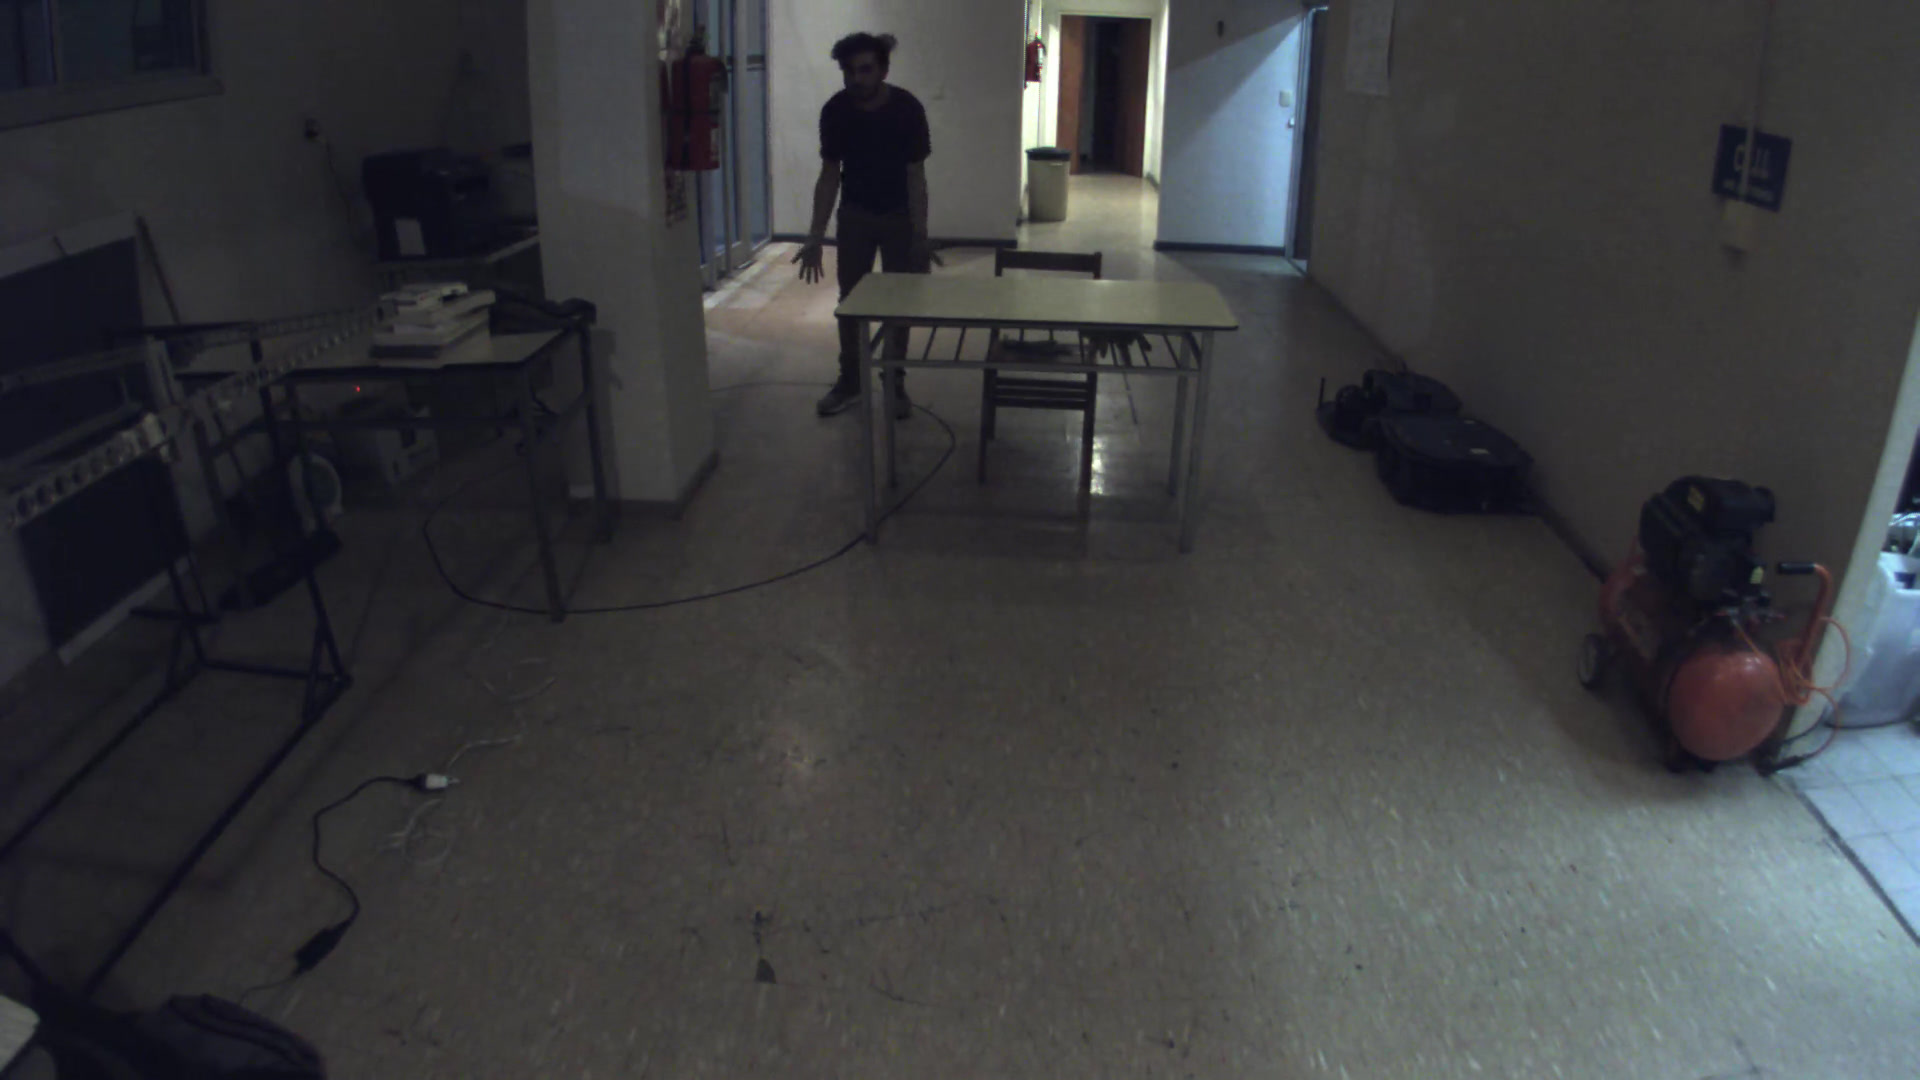hand: (783, 220, 837, 284)
